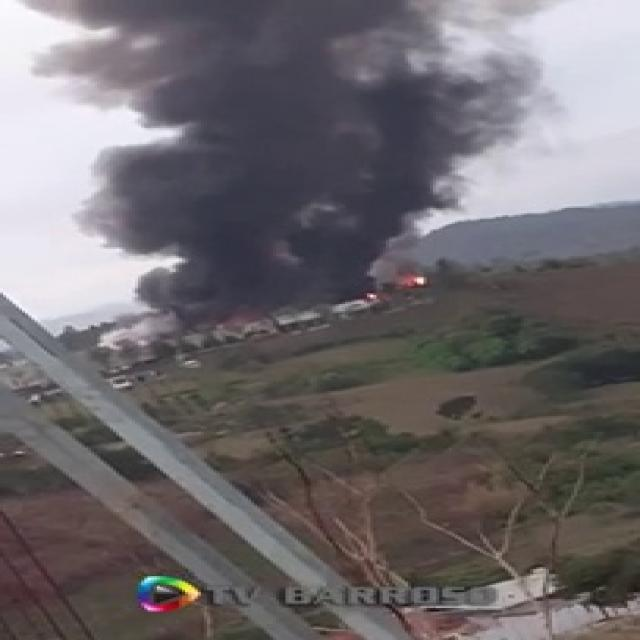Fire: (397, 265, 437, 288)
Smoke: (21, 5, 549, 296)
